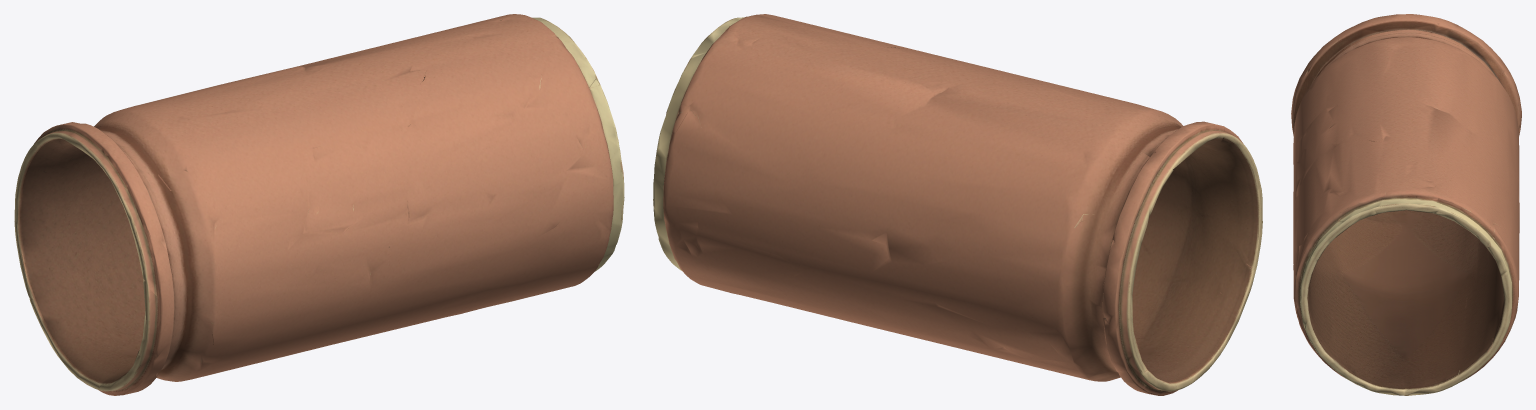
The model's file is capsula.glb.
3 renders of one model, left to right at view 1: azimuth 30°, elevation 25°; view 2: azimuth 150°, elevation 25°; view 3: azimuth 270°, elevation 25°, orthographic. The views are drawn at different scales.
Visible parts, largest first — view 1: Mesh1.0; view 2: Mesh1.0; view 3: Mesh1.0.
Part boxes in pixels (x1,y1,x2,y2): Mesh1.0: (14, 14, 624, 395); Mesh1.0: (653, 14, 1262, 395); Mesh1.0: (1291, 14, 1521, 395).
Bounding box in the file's own units: 1.9 × 0.9635 × 0.9852.
Materials: 1 (1 with a texture image).
